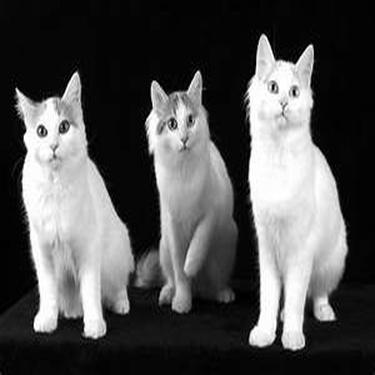cat: (1, 77, 139, 343), (243, 31, 355, 355), (116, 79, 241, 316)
